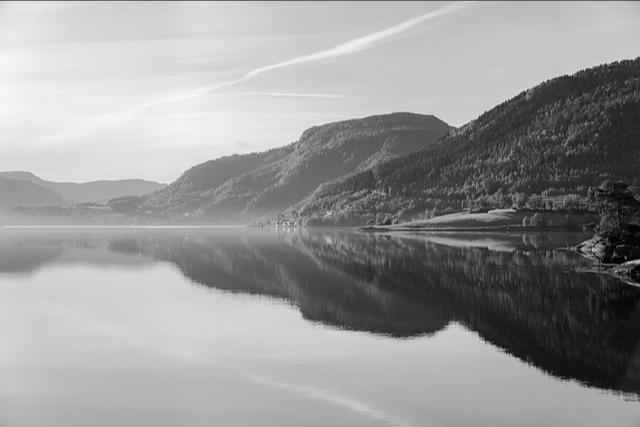Non_Gorille: (92, 77, 624, 336)
